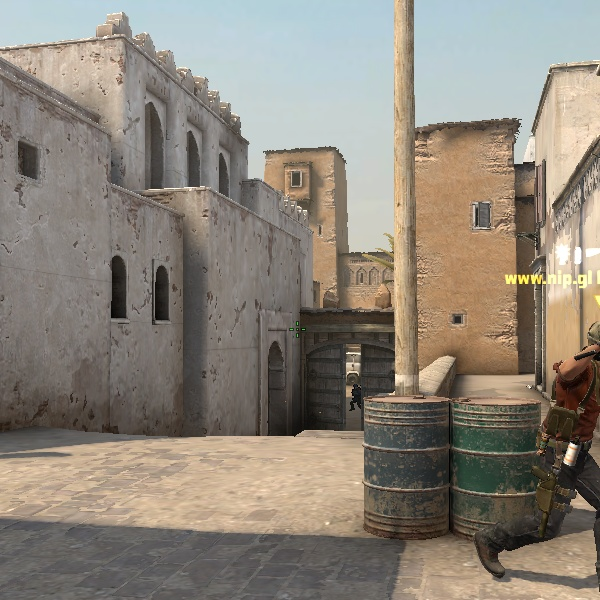ct_body: (349, 383, 361, 411)
ct_head: (352, 383, 359, 390)
t_body: (509, 315, 596, 584)
t_head: (575, 313, 599, 362)
